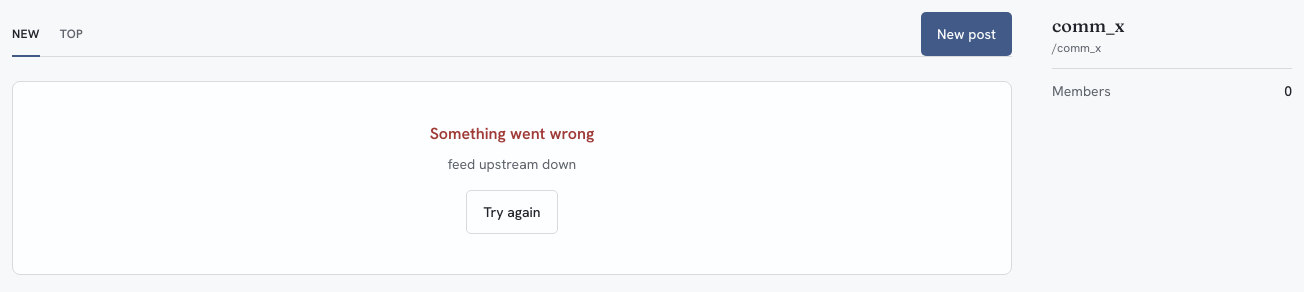
Test: retrying after a failed feed load reloads the posts
Click the button "Try again".
click(512, 212)  # box [466, 190, 558, 234]
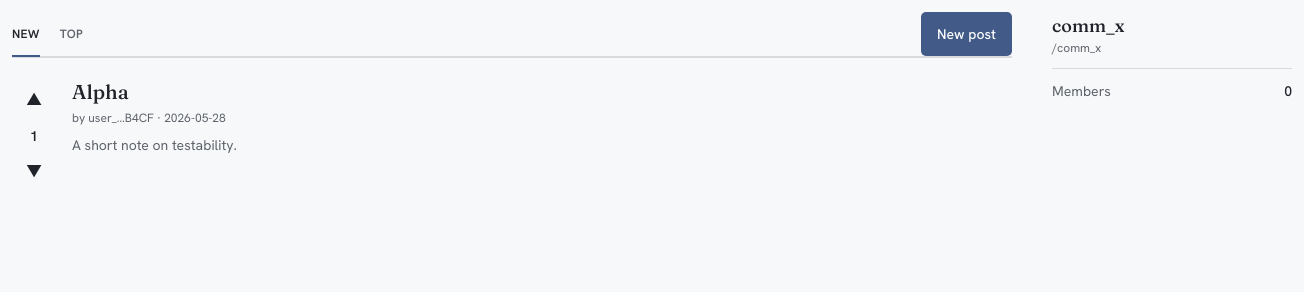
expect the link "Alpha" is shown: met, box [72, 79, 129, 104]
